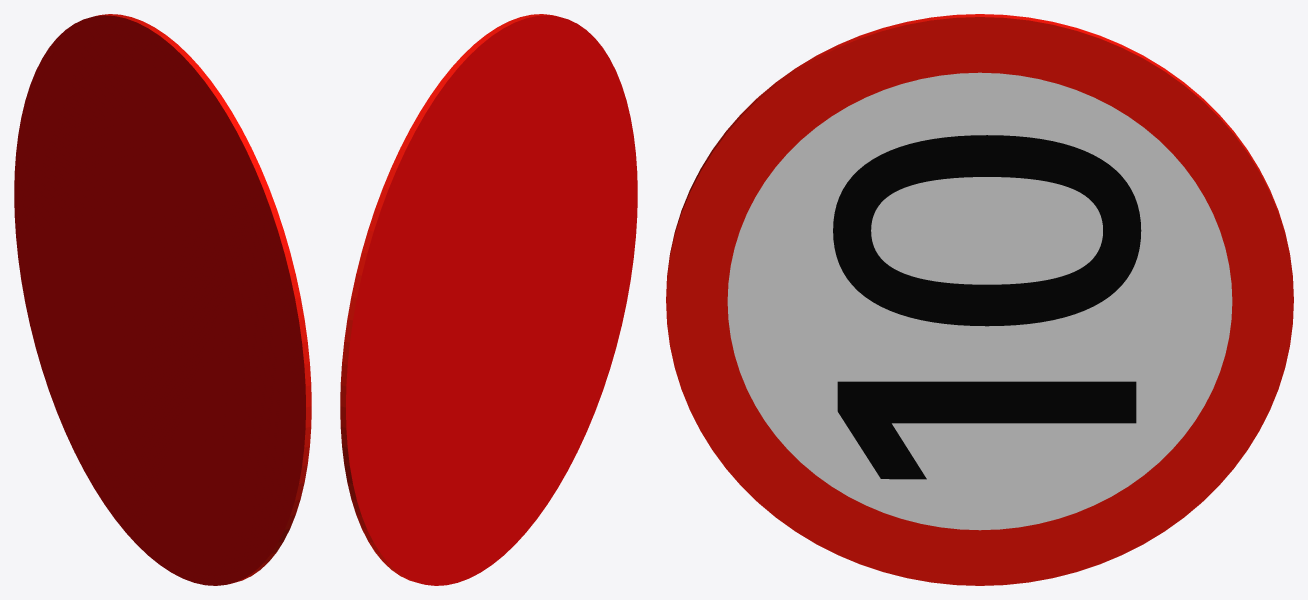
3 views of the same model, side by side, from view 1: azimuth 30°, elevation 25°; view 2: azimuth 150°, elevation 25°; view 3: azimuth 270°, elevation 25° (orthographic). The views are drawn at different scales.
Visible parts, largest first — view 1: 圆环; view 2: 圆环; view 3: 圆环, 文本.
Boxes of the visible parts, bbox=[...] form: 圆环: bbox=[14, 14, 311, 585]; 圆环: bbox=[340, 14, 637, 585]; 圆环: bbox=[666, 14, 1293, 585]; 文本: bbox=[833, 135, 1141, 479].
Bounding box in the file's own units: 0.0113 × 0.8 × 0.8.
